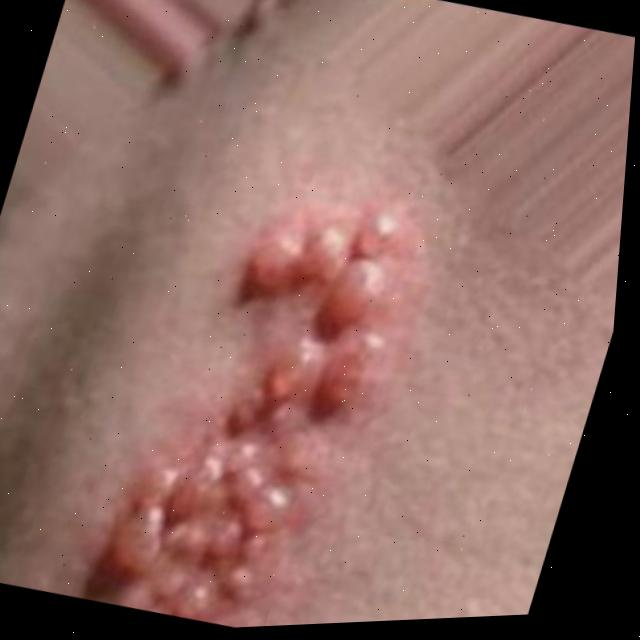Shingles: (88, 170, 401, 634)
